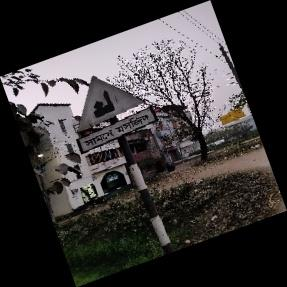Mosque in front: (78, 76, 157, 152)
